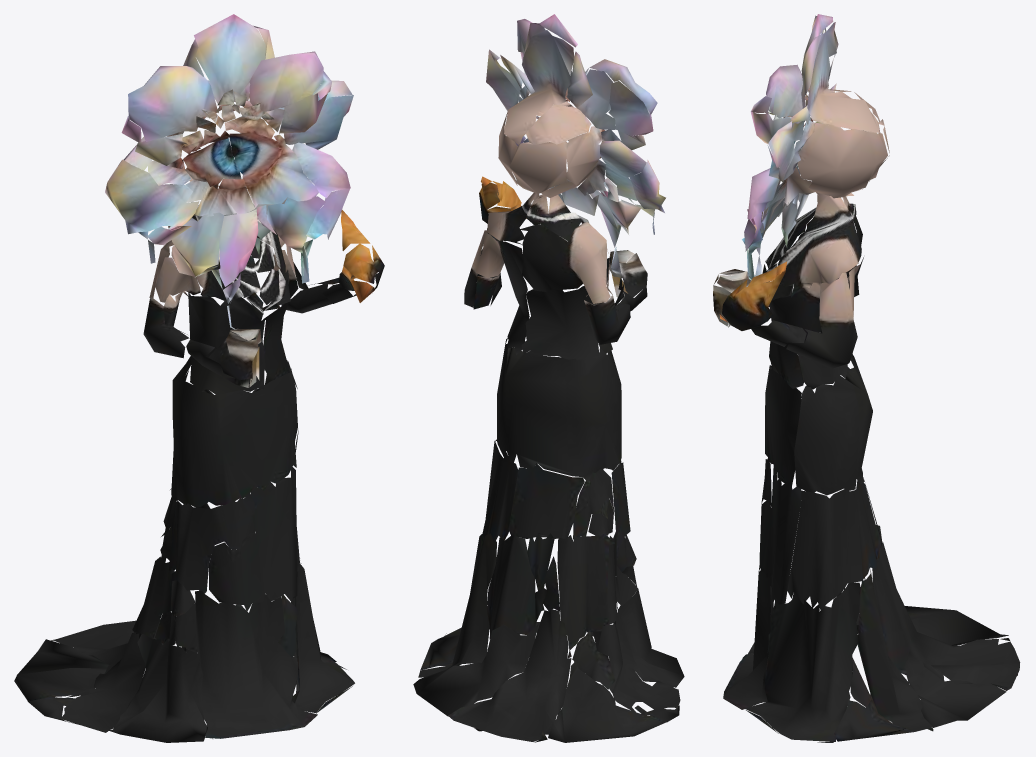
File: crowd_gown_full.glb
3 views of the same model, side by side, from view 1: azimuth 30°, elevation 25°; view 2: azimuth 150°, elevation 25°; view 3: azimuth 270°, elevation 25° (orthographic). The views are drawn at different scales.
Visible parts, largest first — view 1: tripo_node_620514dc-a435-4403-84fe-d3314a613aa5; view 2: tripo_node_620514dc-a435-4403-84fe-d3314a613aa5; view 3: tripo_node_620514dc-a435-4403-84fe-d3314a613aa5.
Part boxes in pixels (x1,y1,x2,y2): tripo_node_620514dc-a435-4403-84fe-d3314a613aa5: (14, 14, 384, 742); tripo_node_620514dc-a435-4403-84fe-d3314a613aa5: (413, 14, 684, 742); tripo_node_620514dc-a435-4403-84fe-d3314a613aa5: (713, 14, 1020, 742).
Bounding box in the file's own units: 0.4215 × 1 × 0.4131.
1 material, 1 textured.
